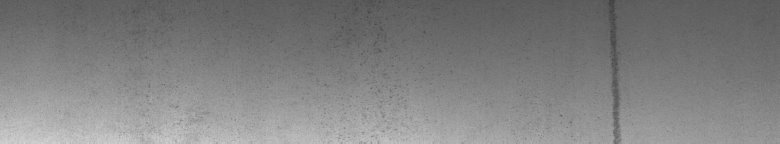hd: (604, 4, 624, 136)
